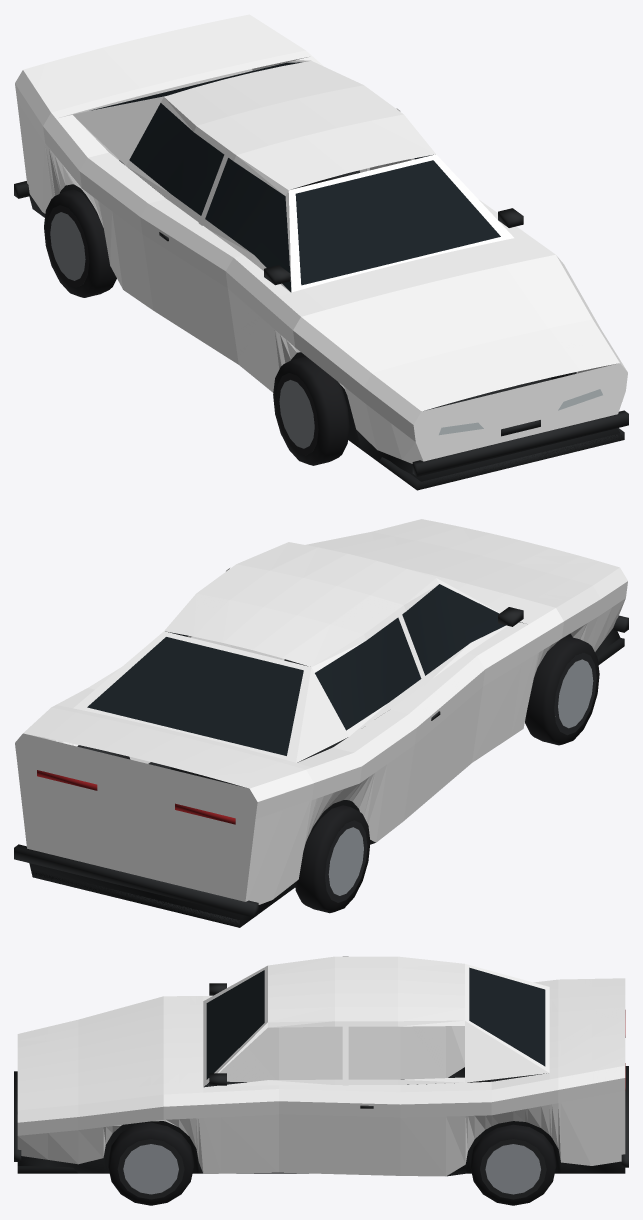
Rendered from ridgeway_corrente.glb.
3 views of the same model, one above another, from view 1: azimuth 30°, elevation 25°; view 2: azimuth 150°, elevation 25°; view 3: azimuth 270°, elevation 25° (orthographic). The views are drawn at different scales.
Visible parts, largest first — view 1: Body_Paint, Body_Details, Mount_FrontLeft_Wheel_Details, Mount_RearLeft_Wheel_Details; view 2: Body_Paint, Body_Details, Mount_FrontLeft_Wheel_Details, Mount_RearLeft_Wheel_Details; view 3: Body_Paint, Body_Details, Mount_FrontRight_Wheel_Details, Mount_RearRight_Wheel_Details.
Boxes of the visible parts, x1,y1,x2,y2 form: Body_Paint: [15, 14, 627, 463]; Body_Details: [14, 62, 628, 490]; Mount_FrontLeft_Wheel_Details: [273, 356, 349, 465]; Mount_RearLeft_Wheel_Details: [44, 189, 116, 297]; Body_Paint: [15, 519, 627, 904]; Body_Details: [14, 584, 628, 927]; Mount_FrontLeft_Wheel_Details: [525, 636, 599, 745]; Mount_RearLeft_Wheel_Details: [295, 805, 370, 913]; Body_Paint: [17, 956, 625, 1176]; Body_Details: [14, 967, 628, 1176]; Mount_FrontRight_Wheel_Details: [108, 1122, 193, 1205]; Mount_RearRight_Wheel_Details: [470, 1124, 556, 1205].
Size of the model in its own units: 1.92 by 1.38 by 4.59.
2 materials, 1 textured.
